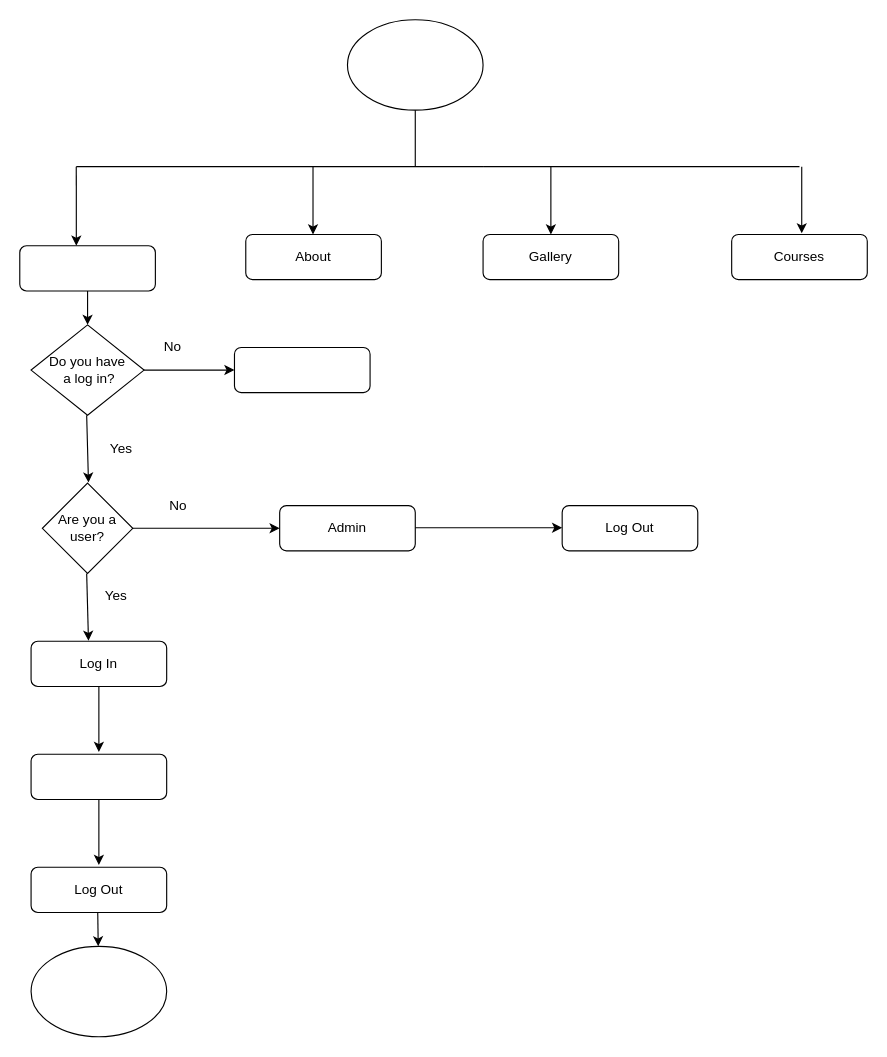
Image size: 887x1057. Some labels were removed from this diagram. The centre of each missing label's shape, as x and y in pixels:
Application form: the point at 98,776
End: the point at 98,991
Home: the point at 87,268
Sign Up: the point at 301,369
Start: the point at 414,64
